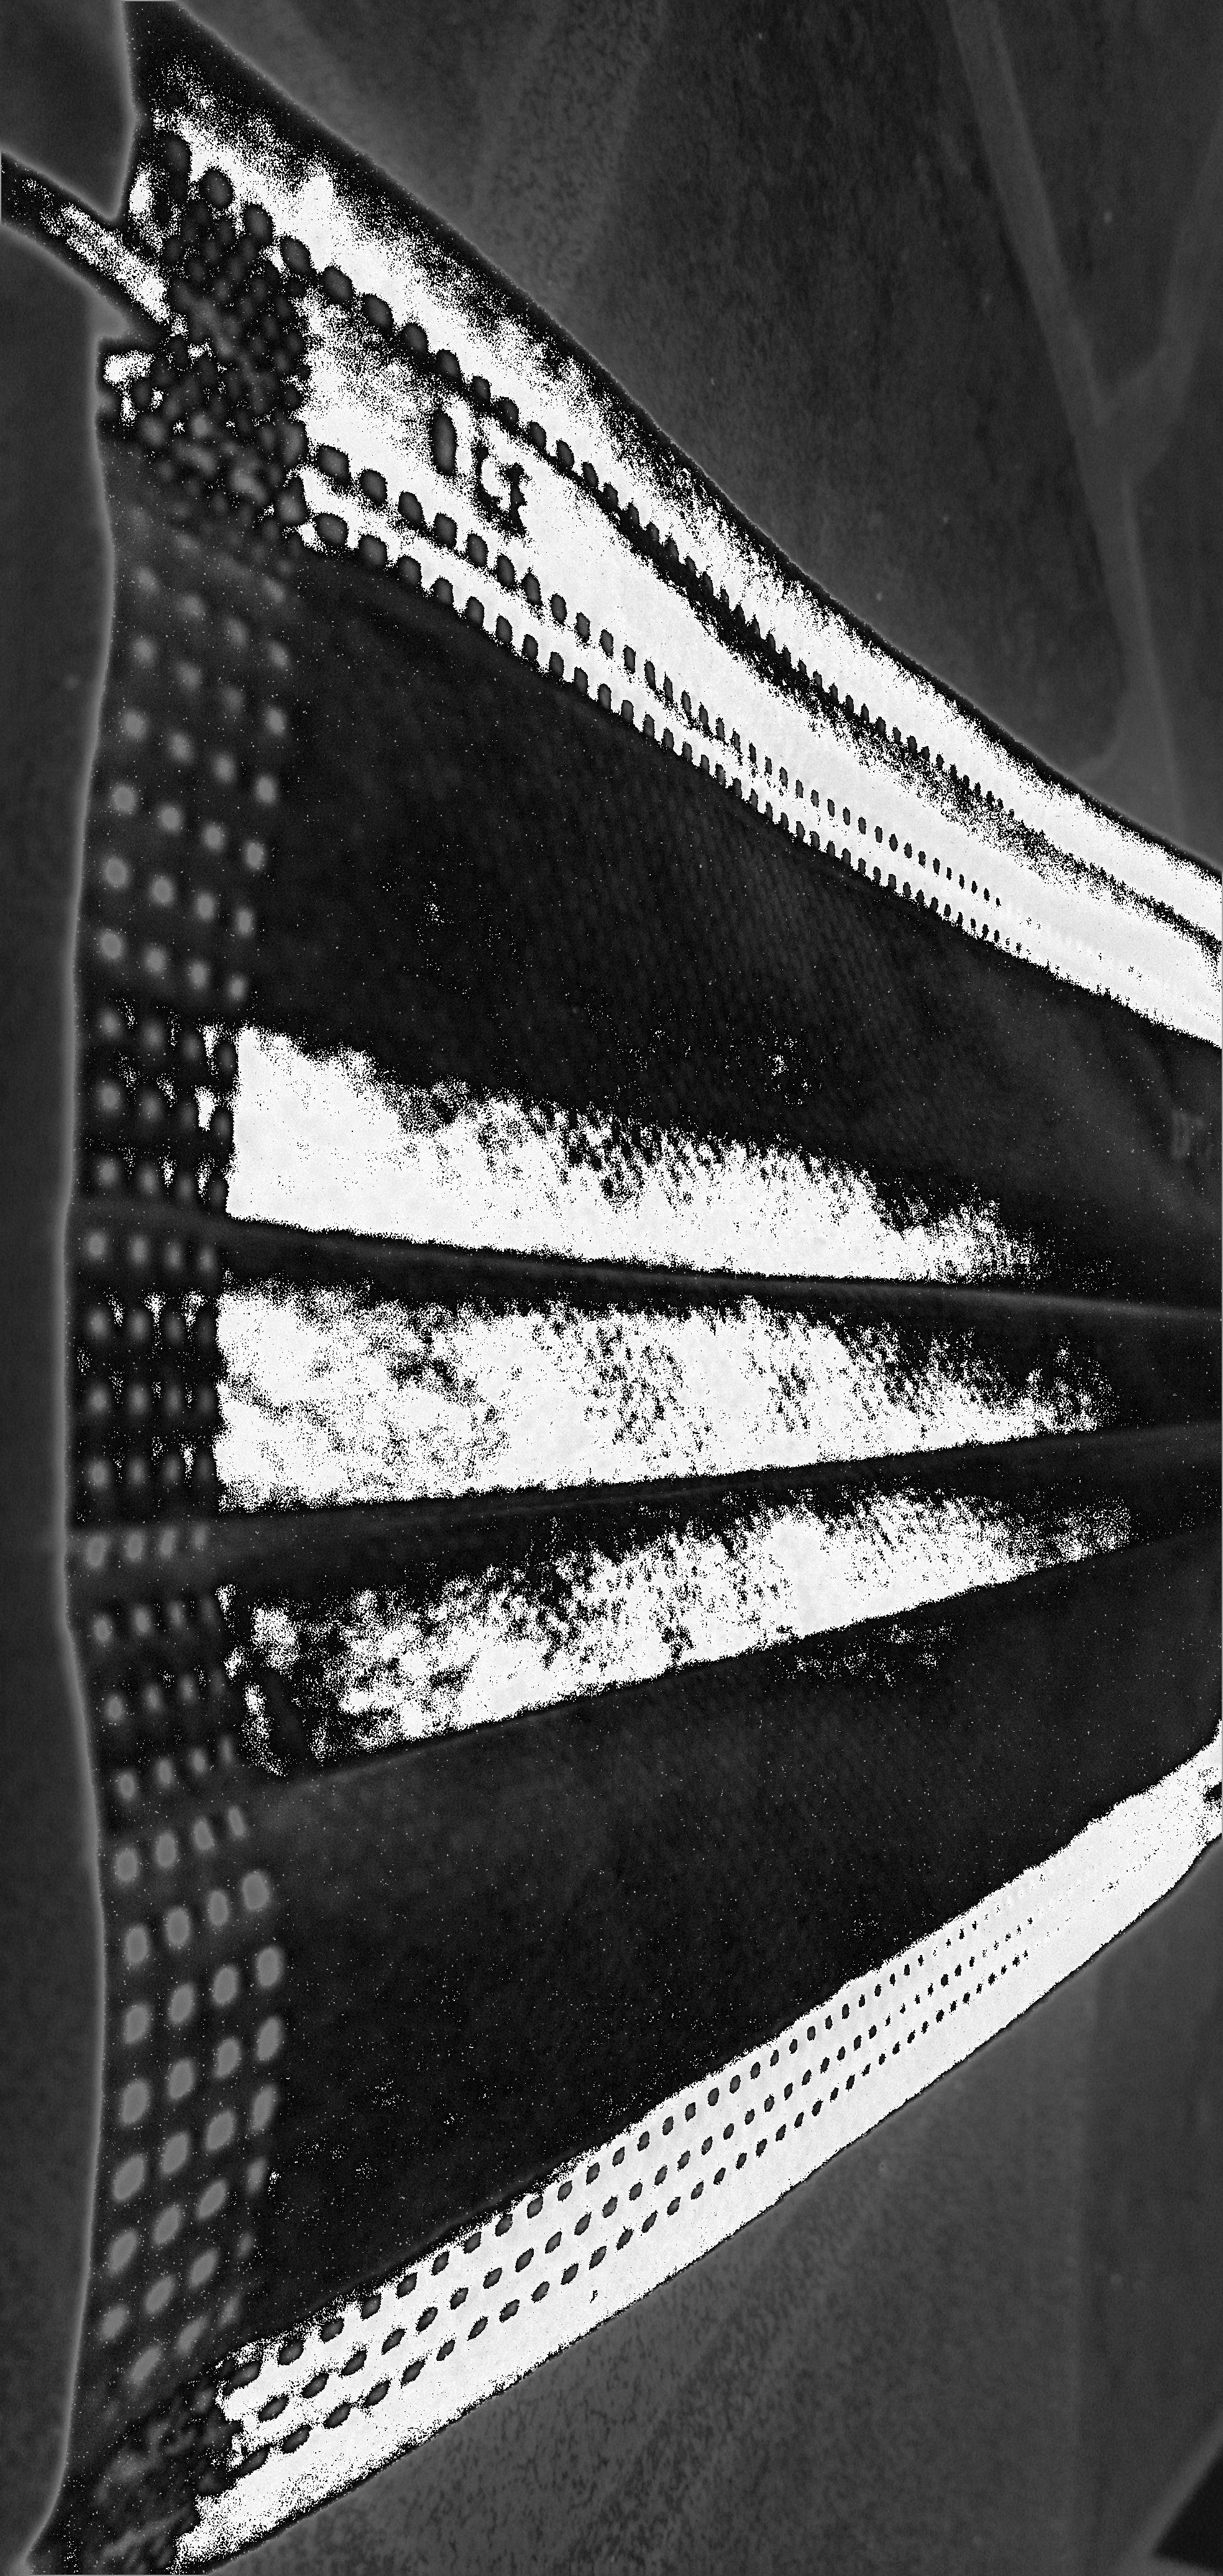High GSM: (345, 657, 1213, 2134)
